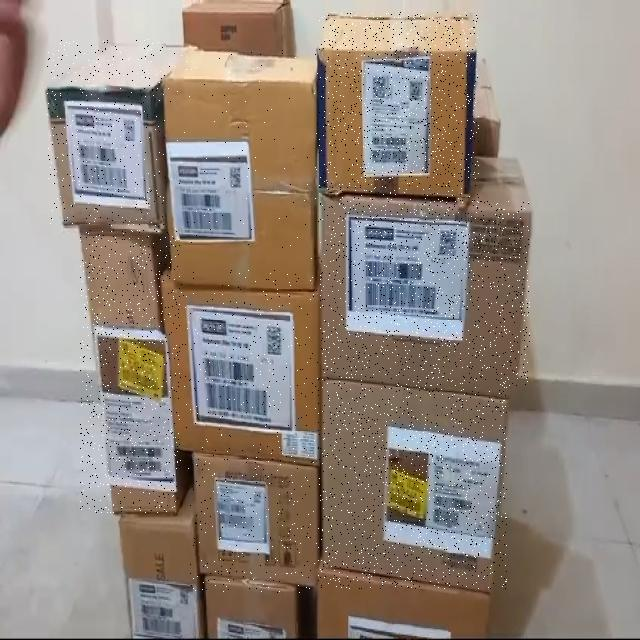BoxFace: (318, 377, 507, 589), (320, 201, 530, 386), (168, 50, 319, 284), (164, 270, 318, 469), (320, 12, 480, 201), (80, 230, 180, 514), (47, 38, 166, 228), (190, 456, 320, 594)
